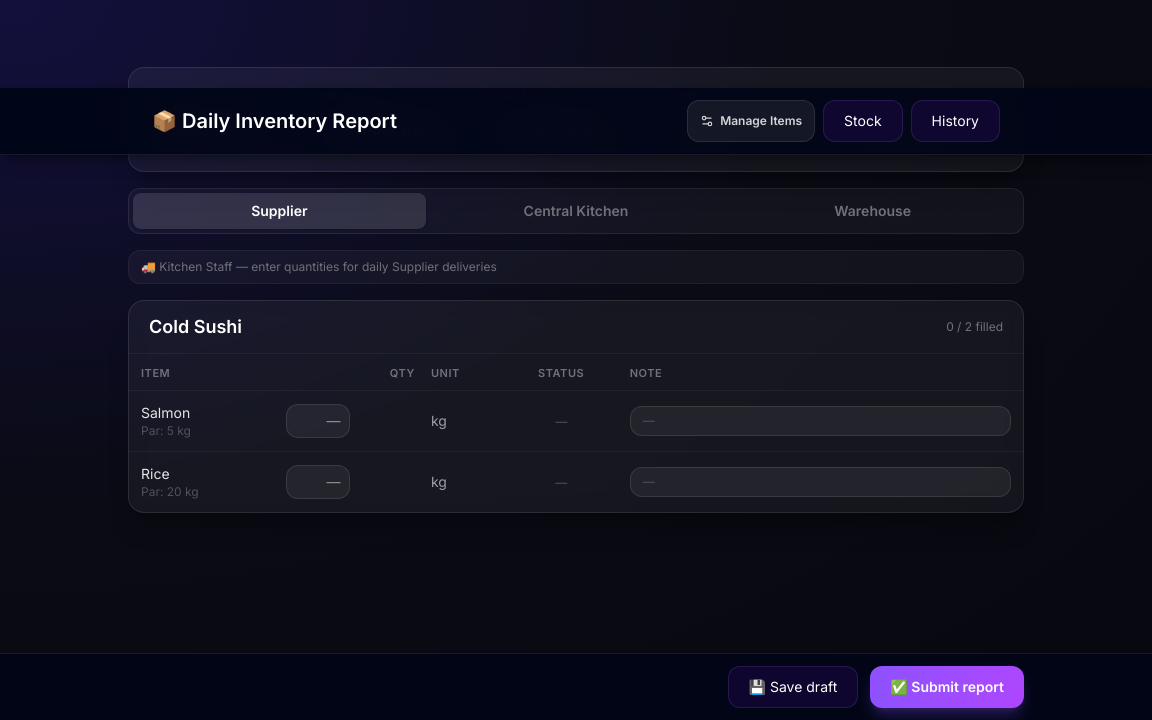
Test: AdminDailyInventoryTab — StatusBadge › shows '🔴 LOW' when qty is below min_level
The width and height of the screenshot is (1152, 720).
Expected: the text "Salmon" is shown, [141,404,190,421]
Type "1" into the number field with placeholder "—" in the row of "Salmon" at (318, 421), box [286,404,350,438]
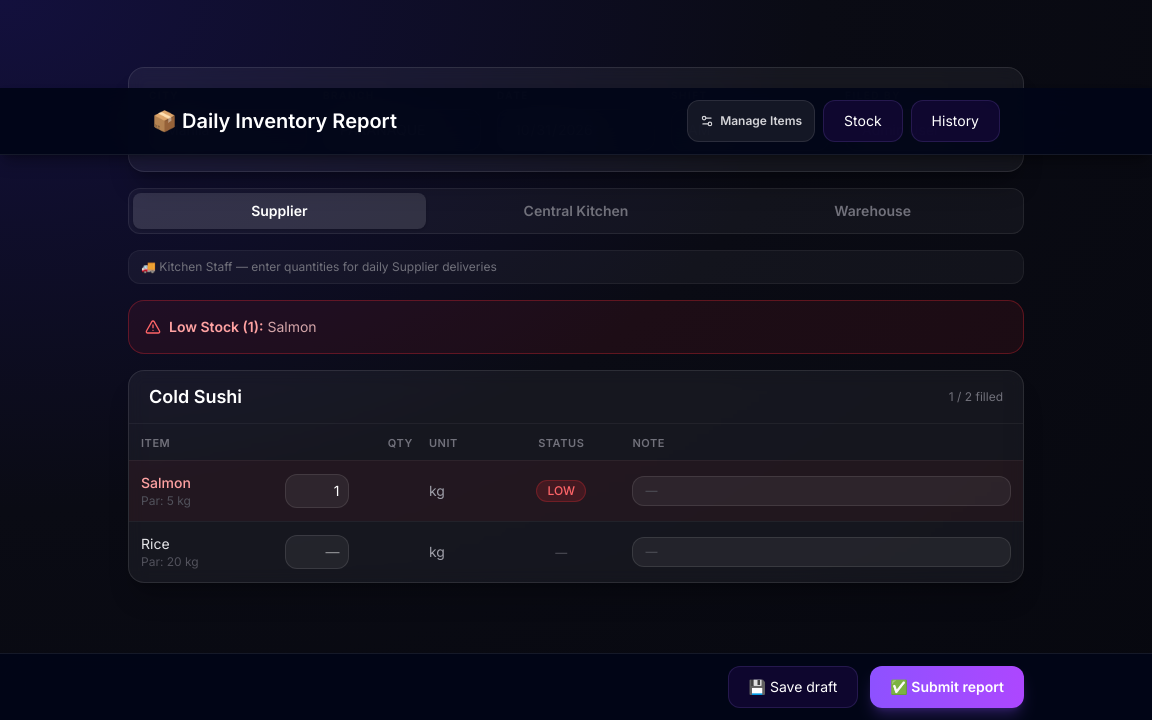
Result: the text "LOW" is shown at [536,480,586,502]
